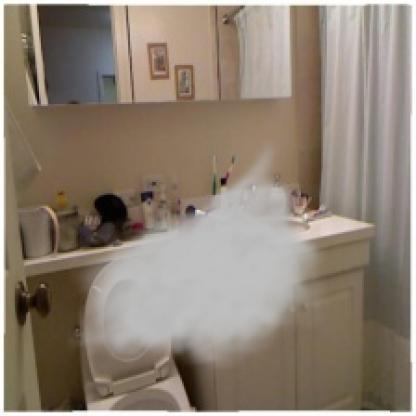smoke: (92, 191, 320, 367)
